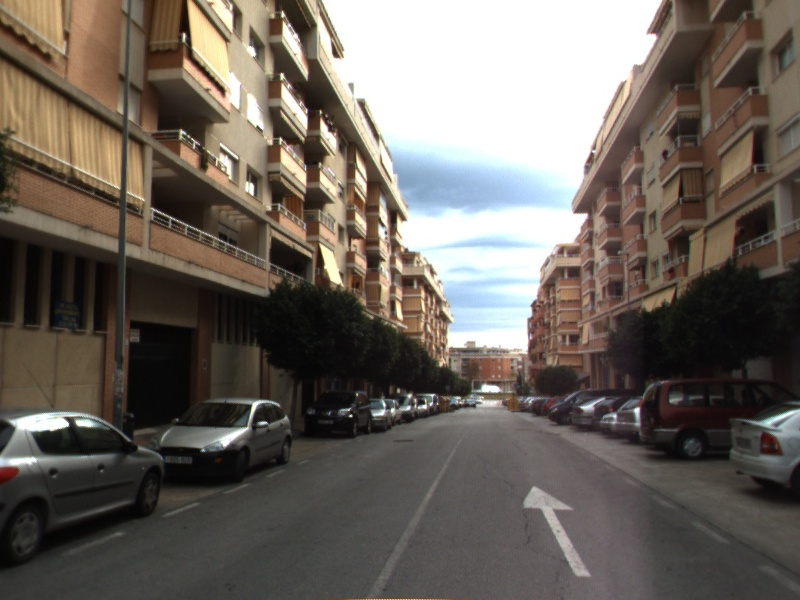STRAIGHT: (518, 483, 594, 579)
